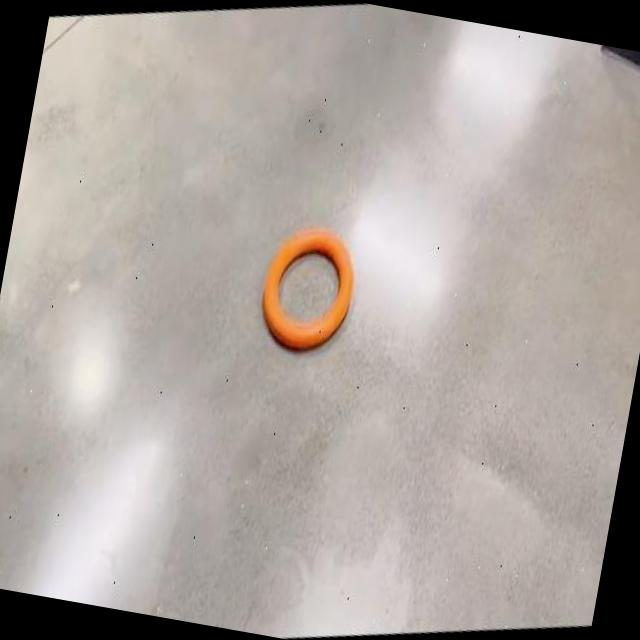note: (264, 228, 353, 345)
